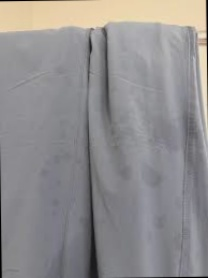oil: (38, 153, 86, 176), (139, 159, 170, 191), (43, 193, 63, 221), (149, 208, 172, 230), (48, 174, 69, 192)
